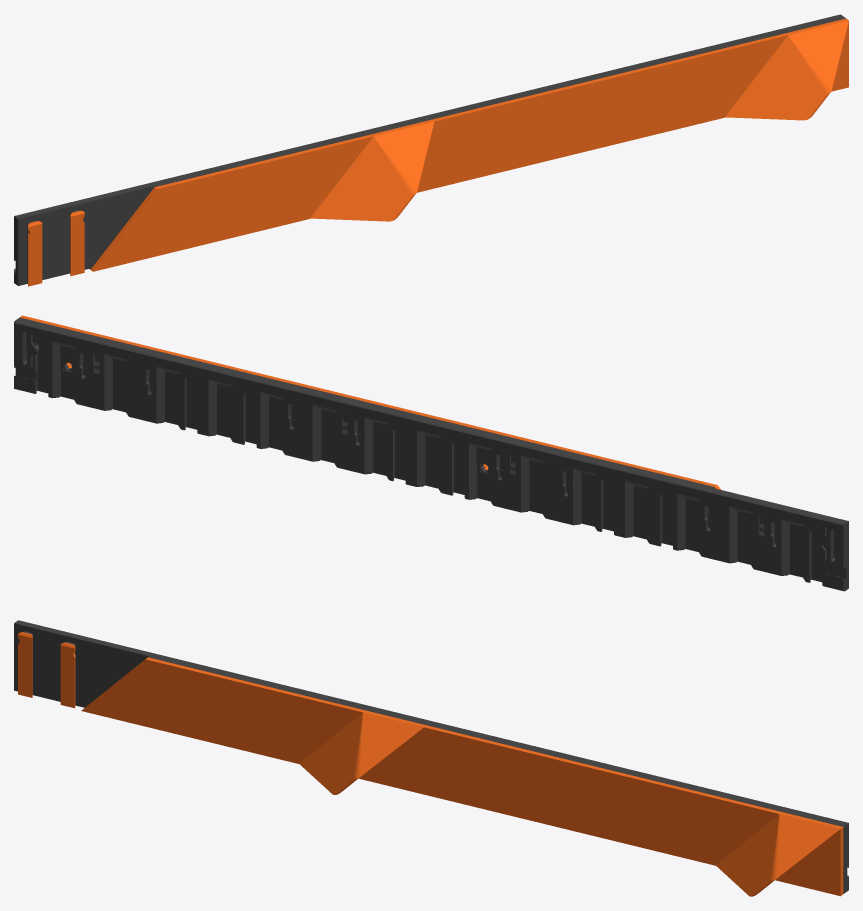
Rendered from Faceplate_EdgeLabel_4W-05H.lib.glb.
3 views of the same model, one above another, from view 1: azimuth 30°, elevation 25°; view 2: azimuth 150°, elevation 25°; view 3: azimuth 330°, elevation 25° (orthographic).
Visible parts, largest first — view 1: Faceplate_EdgeLabel_4W-05H; view 2: Faceplate_EdgeLabel_4W-05H; view 3: Faceplate_EdgeLabel_4W-05H.
Boxes of the visible parts, x1=… form: Faceplate_EdgeLabel_4W-05H: x1=14, y1=14, x2=848, y2=286; Faceplate_EdgeLabel_4W-05H: x1=14, y1=315, x2=848, y2=591; Faceplate_EdgeLabel_4W-05H: x1=14, y1=620, x2=848, y2=896.
Size of the model in its own units: 351 by 27.17 by 24.08.
